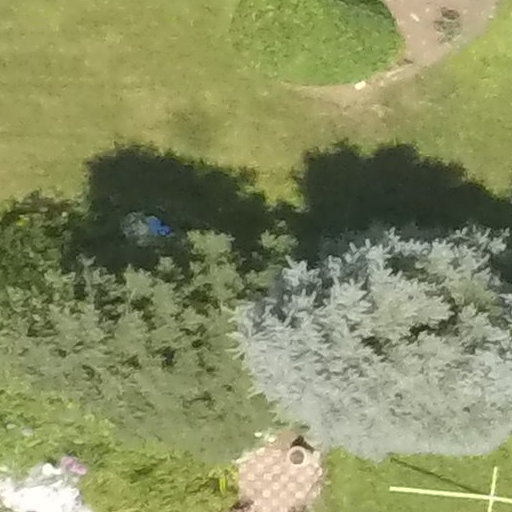container: (285, 443, 319, 470)
